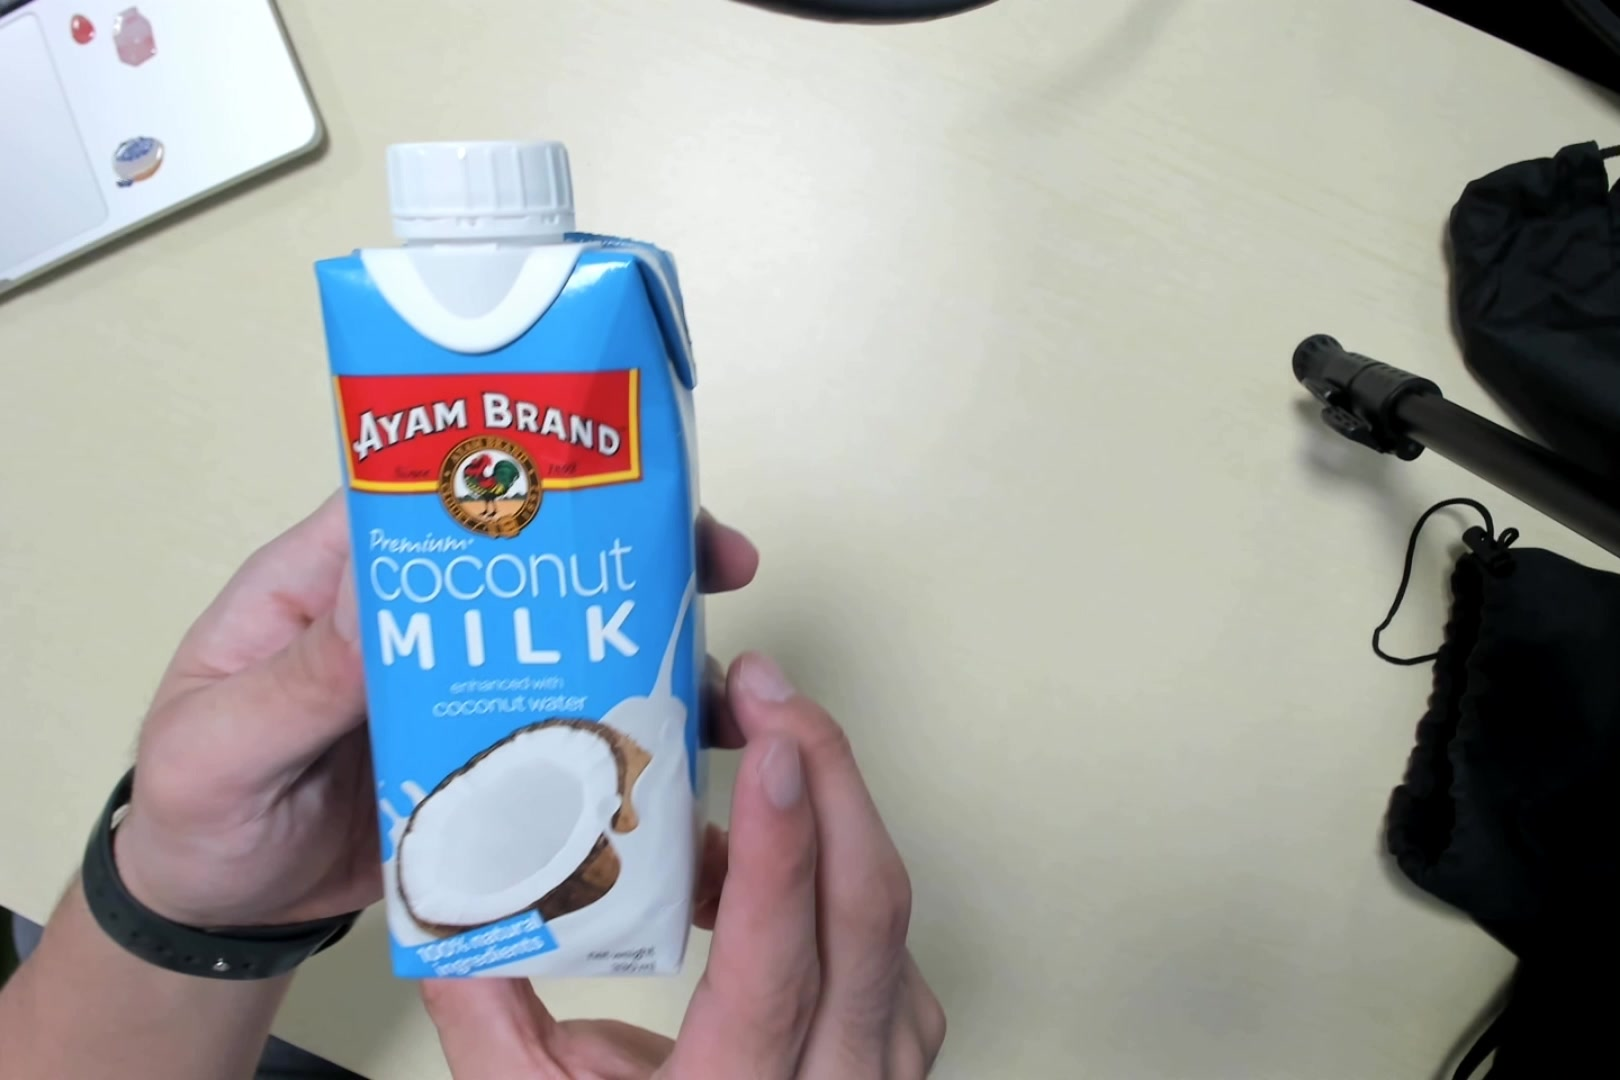CookingCreamMilk_300-399g_Halal_NonHealthy: (328, 129, 693, 986)
